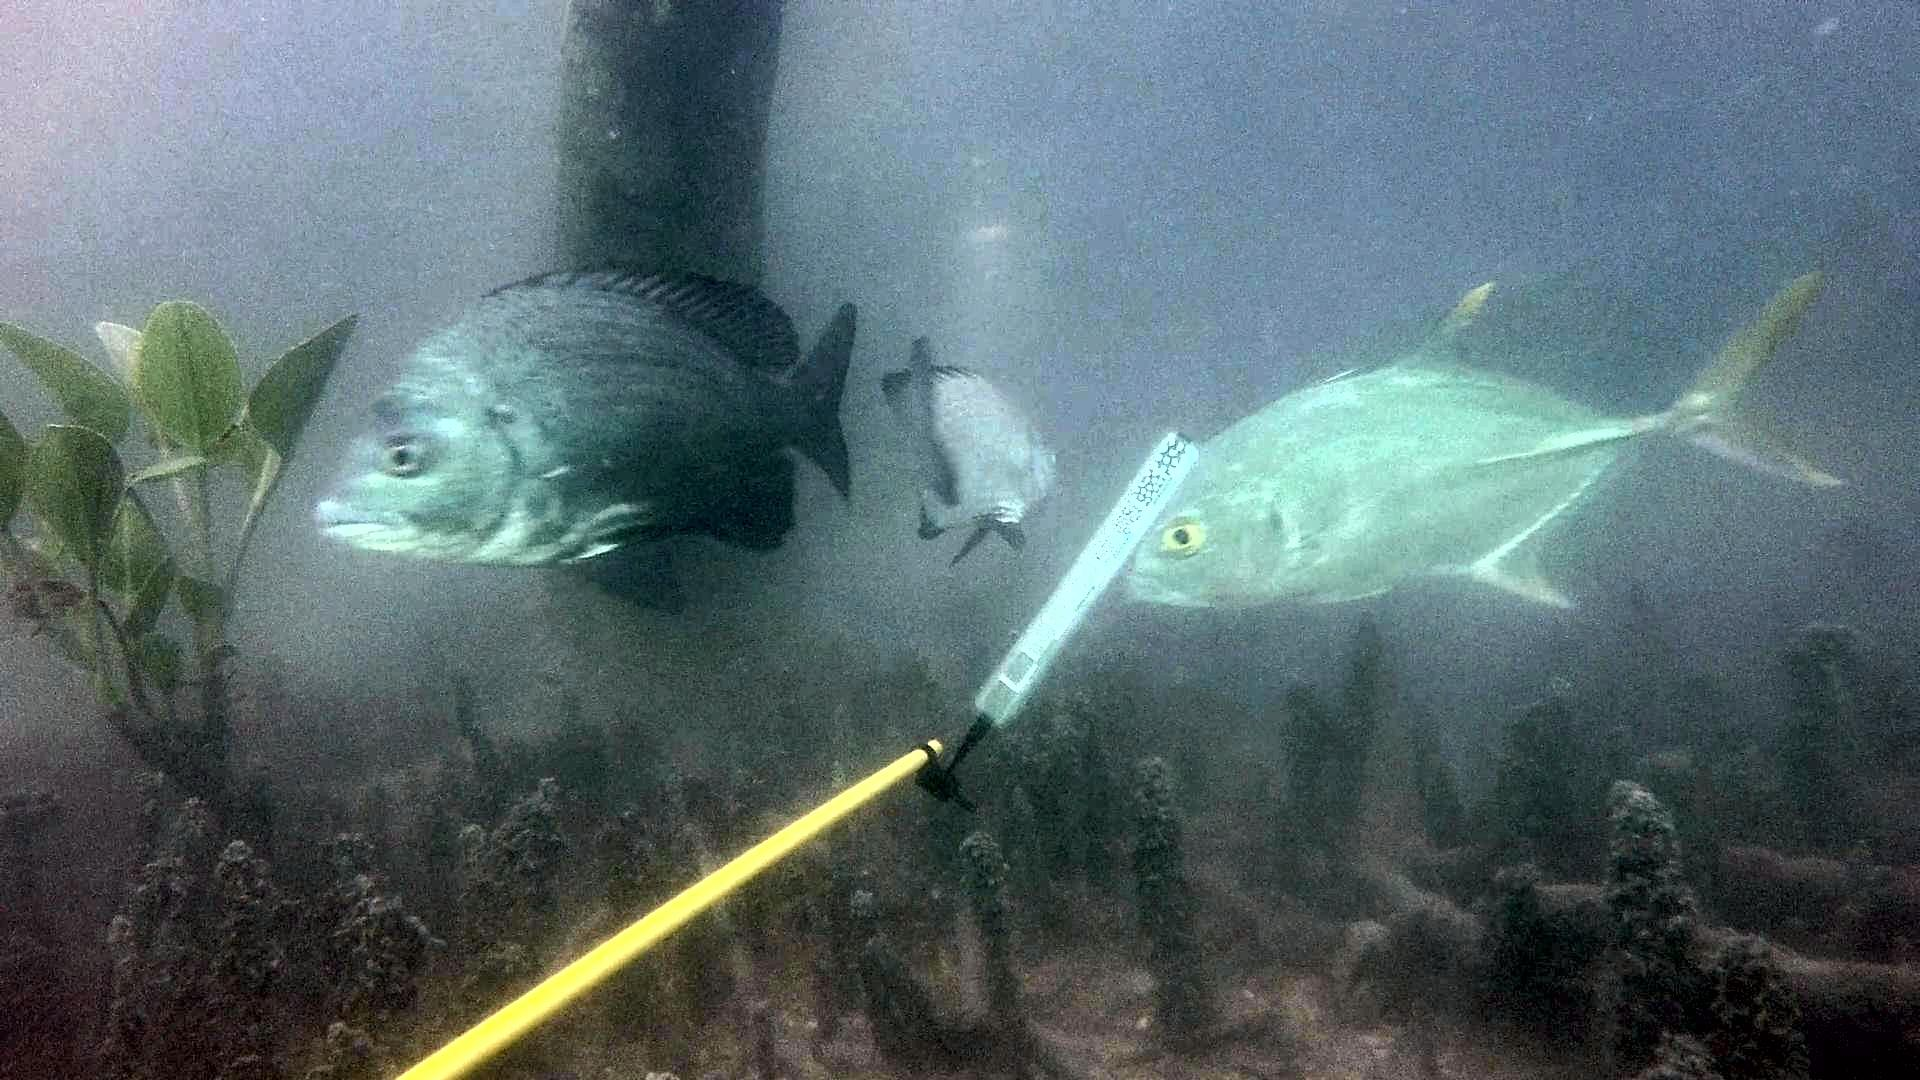acanthopagrus palmaris: (298, 249, 868, 625), (864, 326, 1076, 571)
caranx: (1118, 251, 1869, 628)
